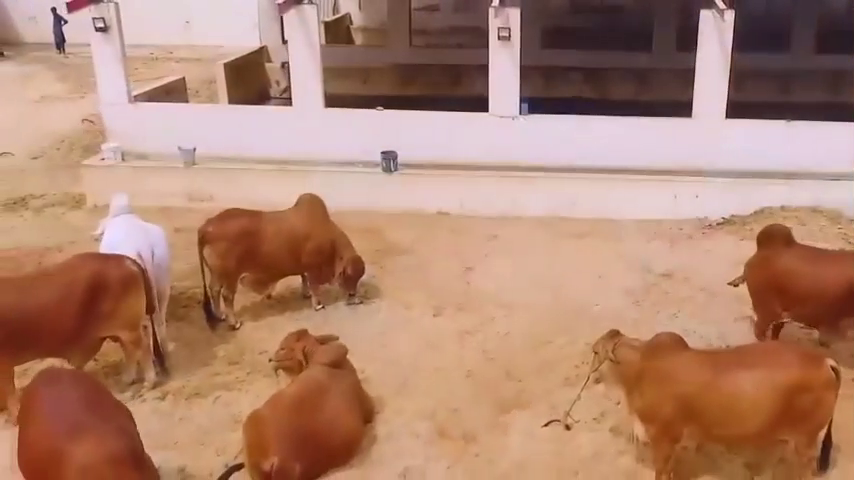bo: (573, 316, 842, 473), (181, 189, 378, 324), (9, 245, 160, 388), (238, 331, 379, 468), (12, 365, 171, 480), (77, 190, 205, 327), (716, 217, 848, 336)
